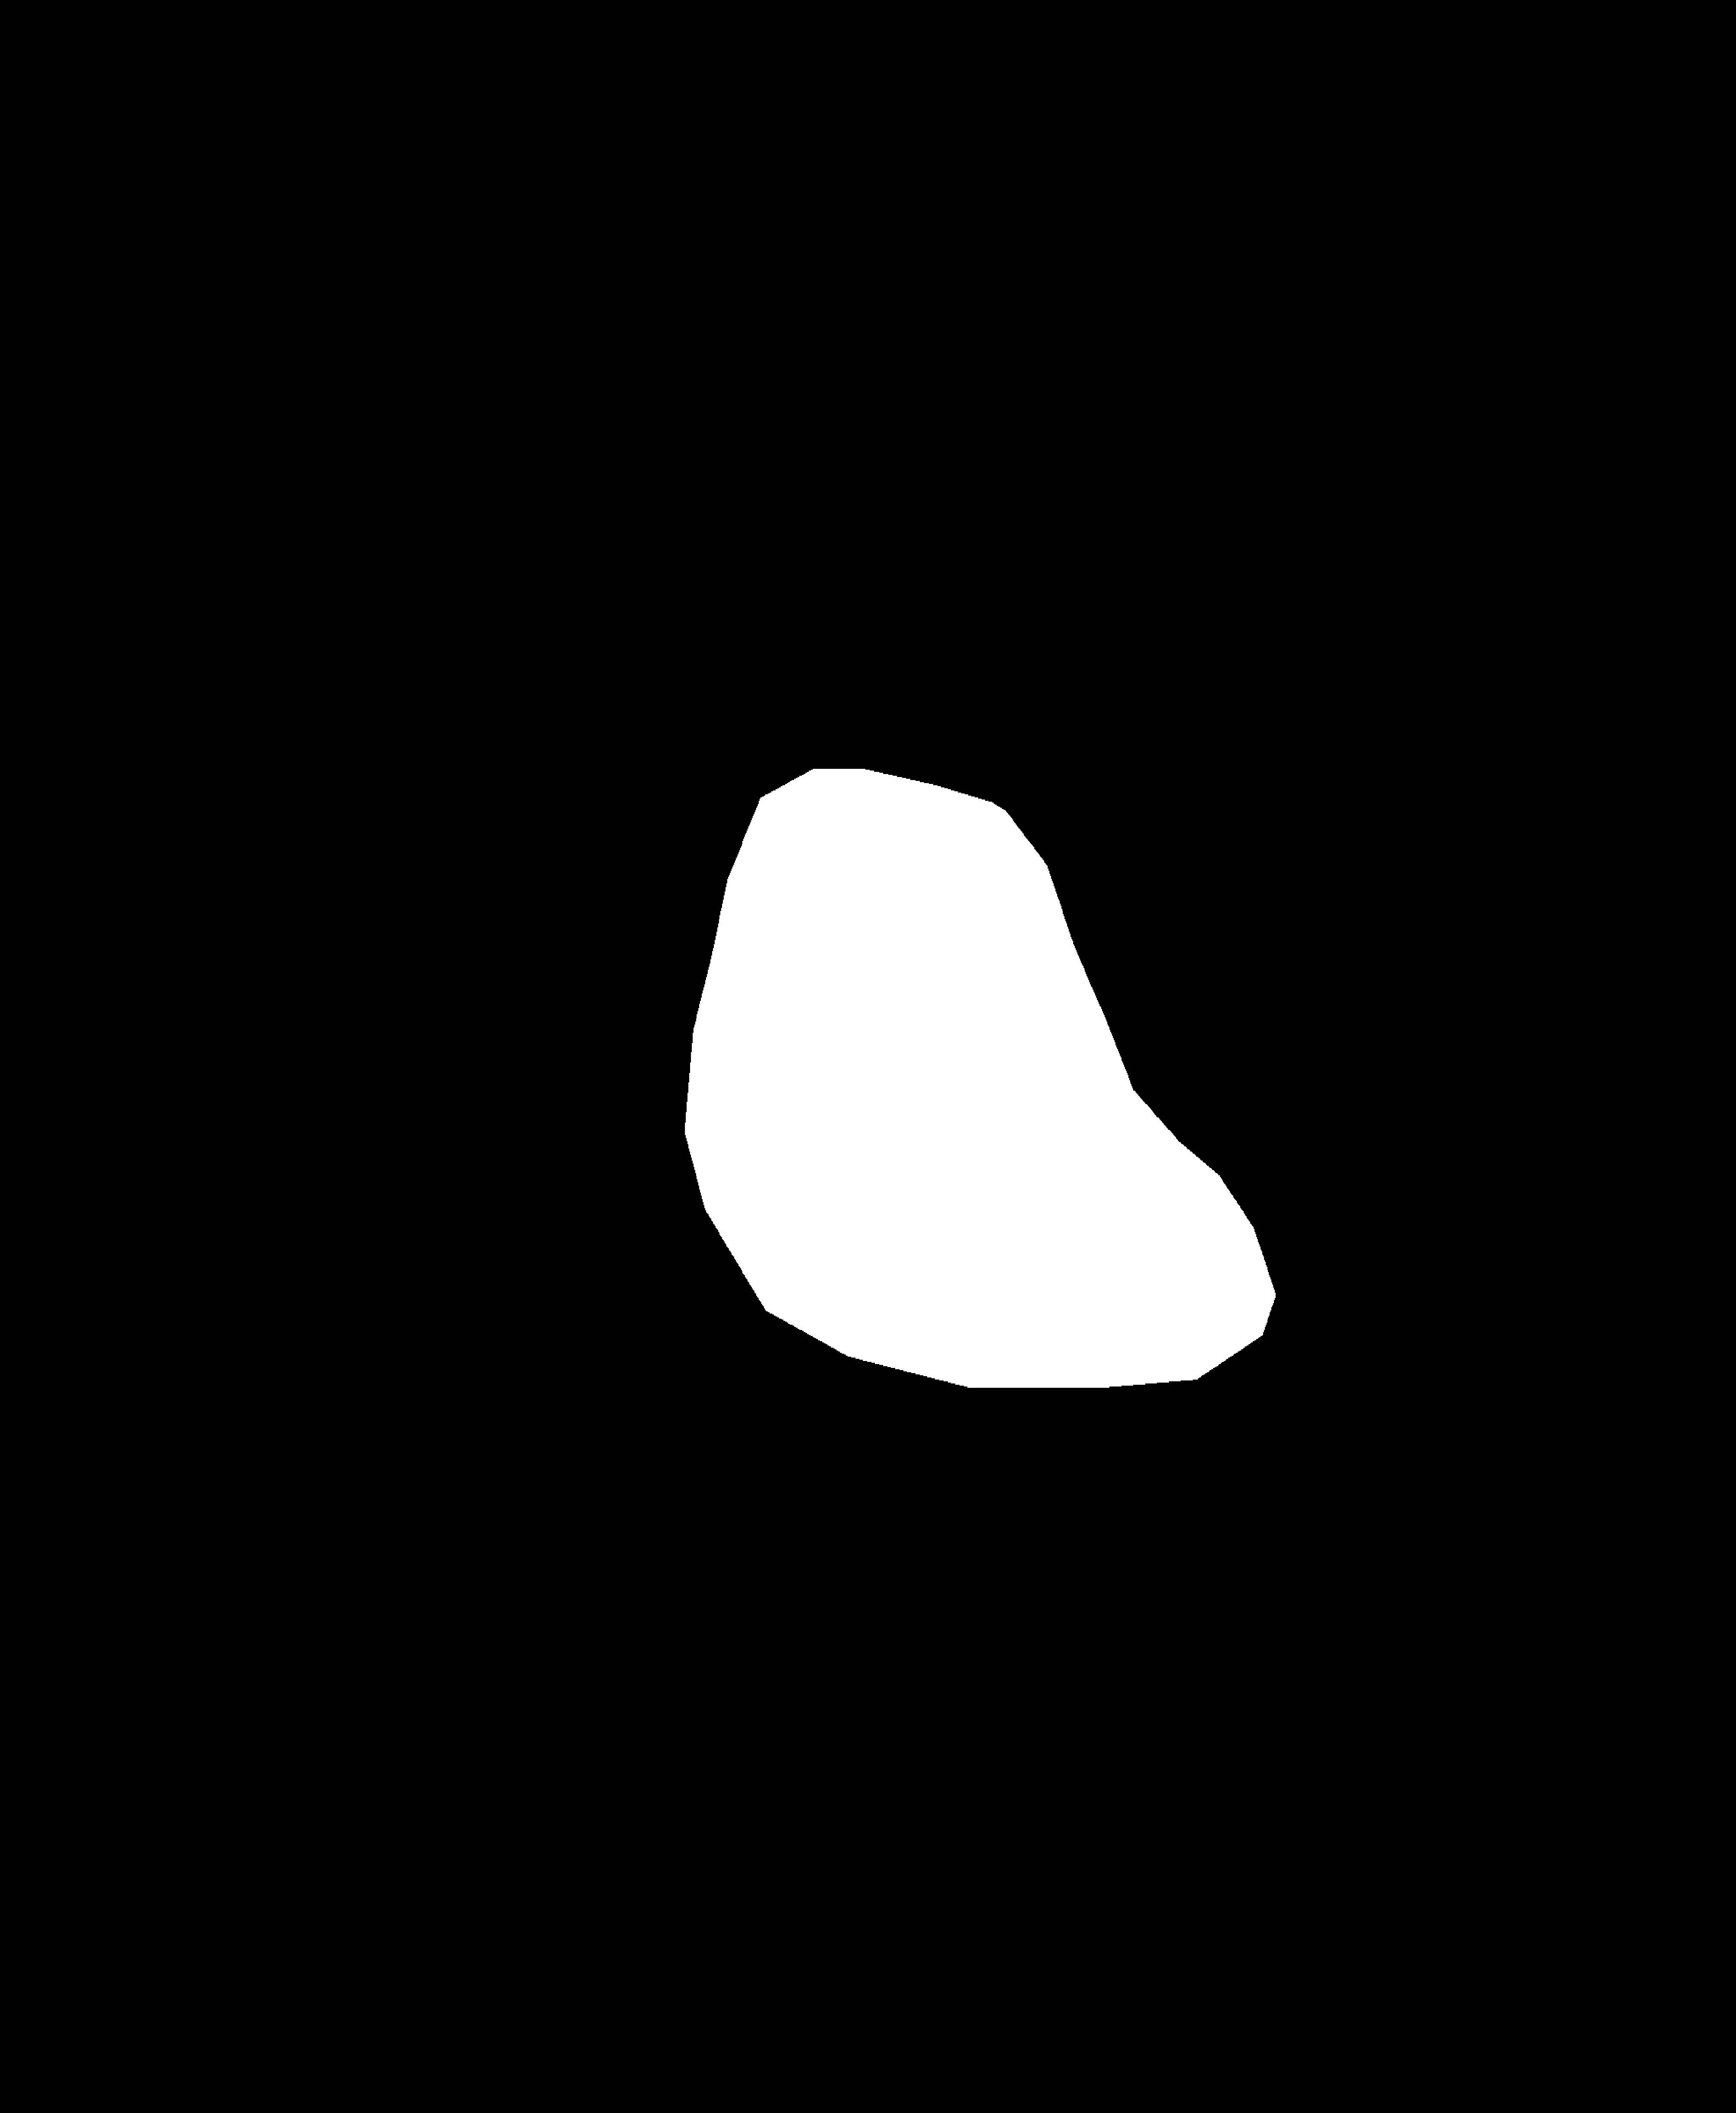heart: (681, 1053, 1322, 1490)
left_lung: (123, 246, 785, 1650)
right_lung: (920, 223, 1599, 1588)
